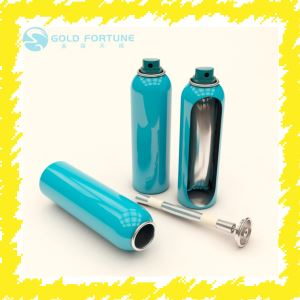Aerosol_cans: (38, 159, 157, 256), (177, 65, 227, 215), (129, 58, 172, 195)
